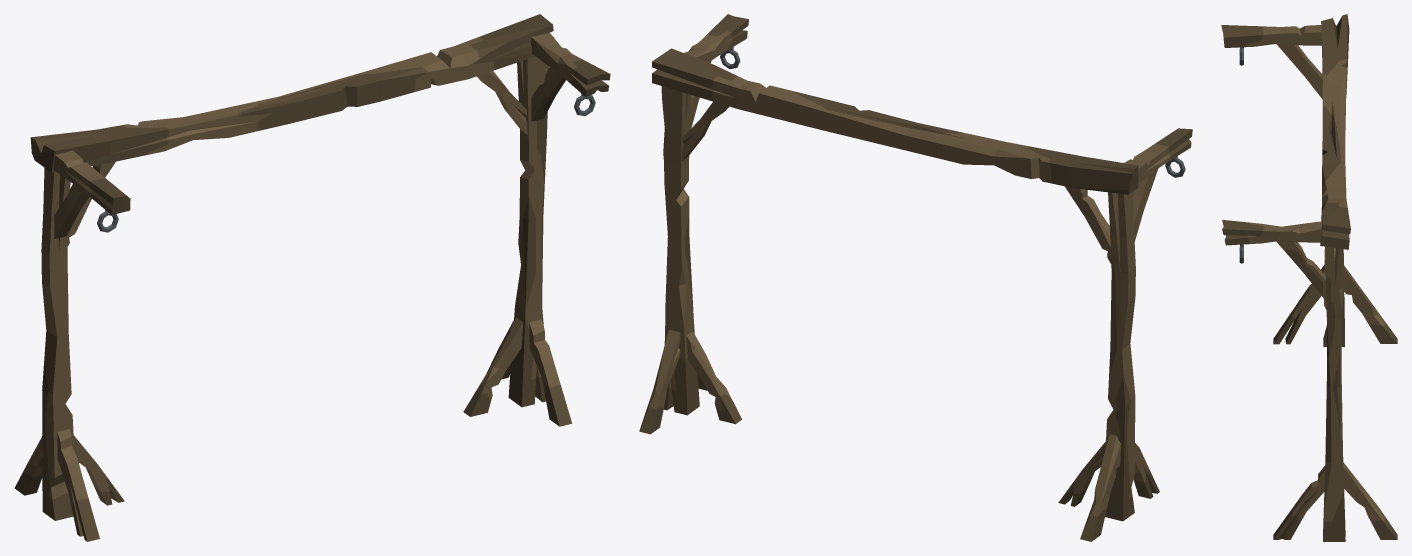
The model's file is crypt_gallows.gltf.
3 views of the same model, side by side, from view 1: azimuth 30°, elevation 25°; view 2: azimuth 150°, elevation 25°; view 3: azimuth 270°, elevation 25° (orthographic). The views are drawn at different scales.
Parts seen in each view (by area): view 1: crypt_gallows; view 2: crypt_gallows; view 3: crypt_gallows.
Part boxes in pixels (x1,y1,x2,y2): crypt_gallows: (14,14,610,541); crypt_gallows: (639,14,1192,541); crypt_gallows: (1221,14,1397,541).
Bounding box in the file's own units: 6.13 × 4.29 × 2.15.
Materials: 1 (1 with a texture image).
